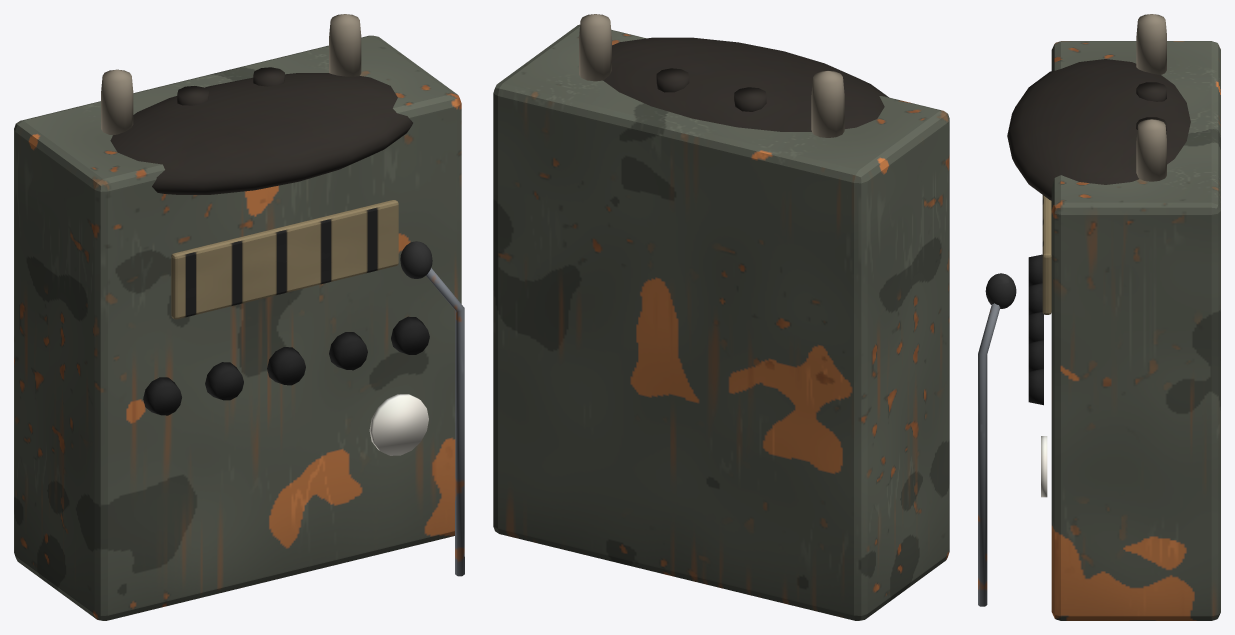
File: radio_broken.glb
3 renders of one model, left to right at view 1: azimuth 30°, elevation 25°; view 2: azimuth 150°, elevation 25°; view 3: azimuth 270°, elevation 25°, orthographic. The views are drawn at different scales.
Parts seen in each view (by area): view 1: Radio; view 2: Radio; view 3: Radio.
Part boxes in pixels (box(x1,y1,x2,y2)): Radio: box(14, 14, 464, 620); Radio: box(493, 14, 949, 620); Radio: box(978, 14, 1220, 620).
Bounding box in the file's own units: 1.3 × 1.7 × 0.79.
1 material, 1 textured.
